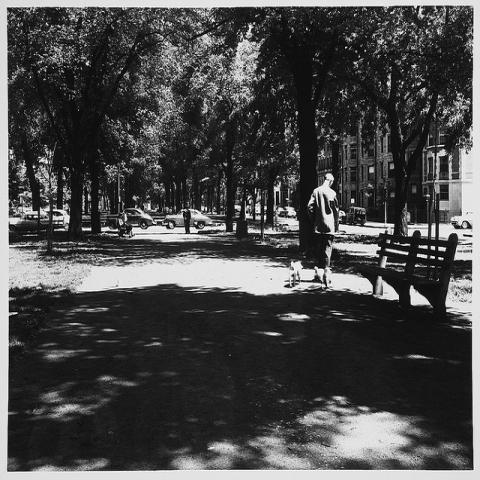car: (161, 208, 212, 229), (125, 208, 153, 229), (48, 209, 70, 230), (15, 213, 50, 226), (343, 207, 366, 226), (451, 211, 472, 229)
